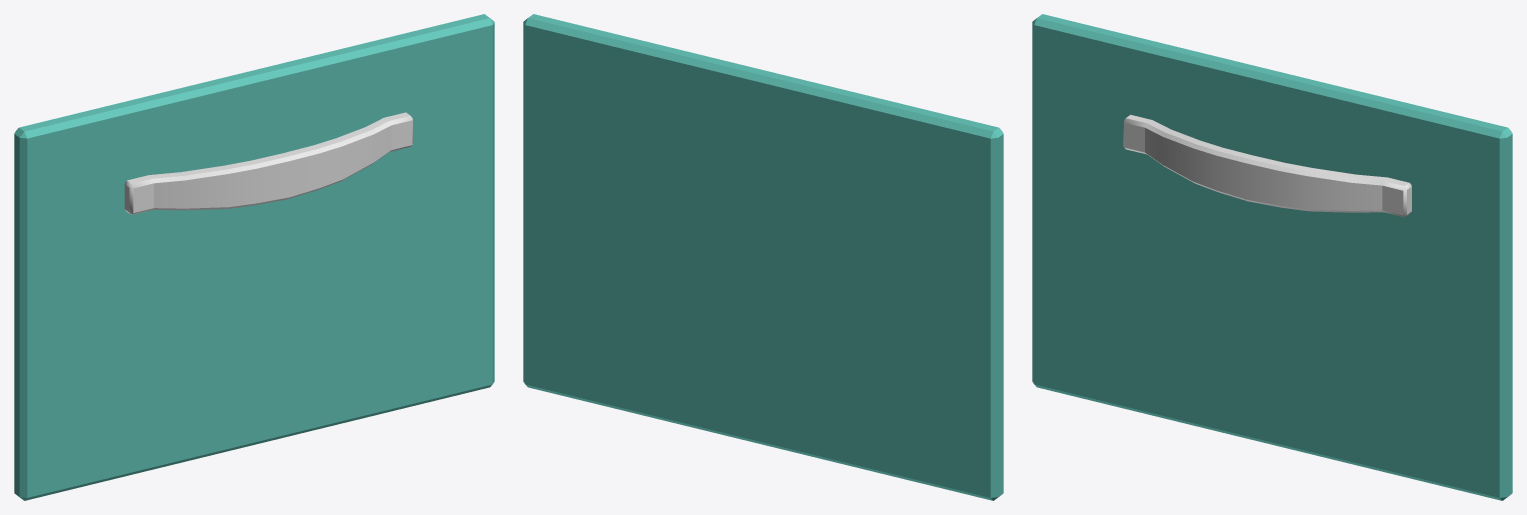
Rendered from Bookcase_door_3.002.fbx.
3 renders of one model, left to right at view 1: azimuth 30°, elevation 25°; view 2: azimuth 150°, elevation 25°; view 3: azimuth 330°, elevation 25°, orthographic.
Visible parts, largest first — view 1: Bookcase_door_3.002; view 2: Bookcase_door_3.002; view 3: Bookcase_door_3.002.
Part boxes in pixels (box(x1,y1,x2,y2)): Bookcase_door_3.002: box(14, 14, 494, 500); Bookcase_door_3.002: box(523, 14, 1003, 500); Bookcase_door_3.002: box(1032, 14, 1512, 500).
Bounding box in the file's own units: 0.4975 × 0.3696 × 0.0655.
